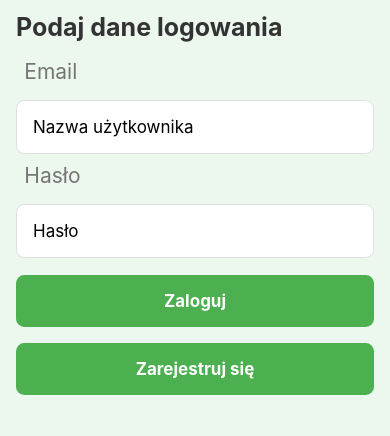
Test case: Komponent Login › Wyświetla błąd przy nieudanym logowaniu
In the field with placeholder "Nazwa użytkownika": (195, 127) [16,100,374,154], type "testuser"
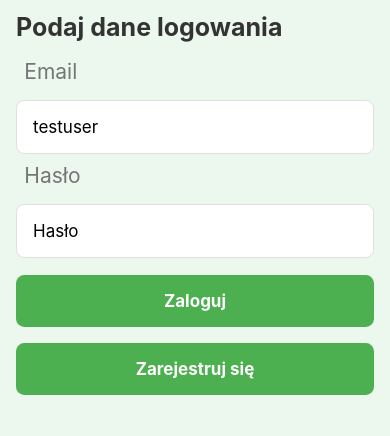
In the password field with placeholder "Hasło": (195, 231) [16,204,374,258], type "testpassword"
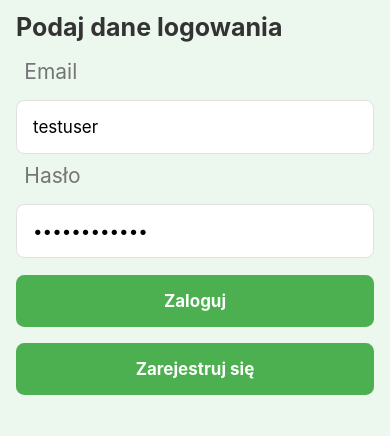
Click the text "Zaloguj": (195, 301) [164,291,226,311]
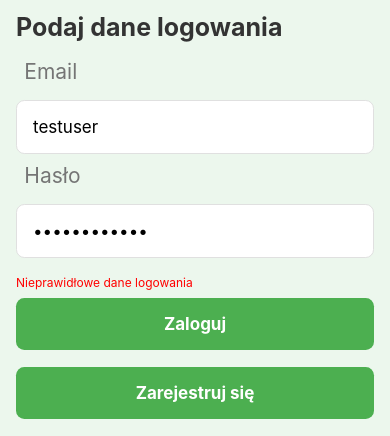
Now the text "Nieprawidłowe dane logowania" is shown, box [16,275,193,290]
